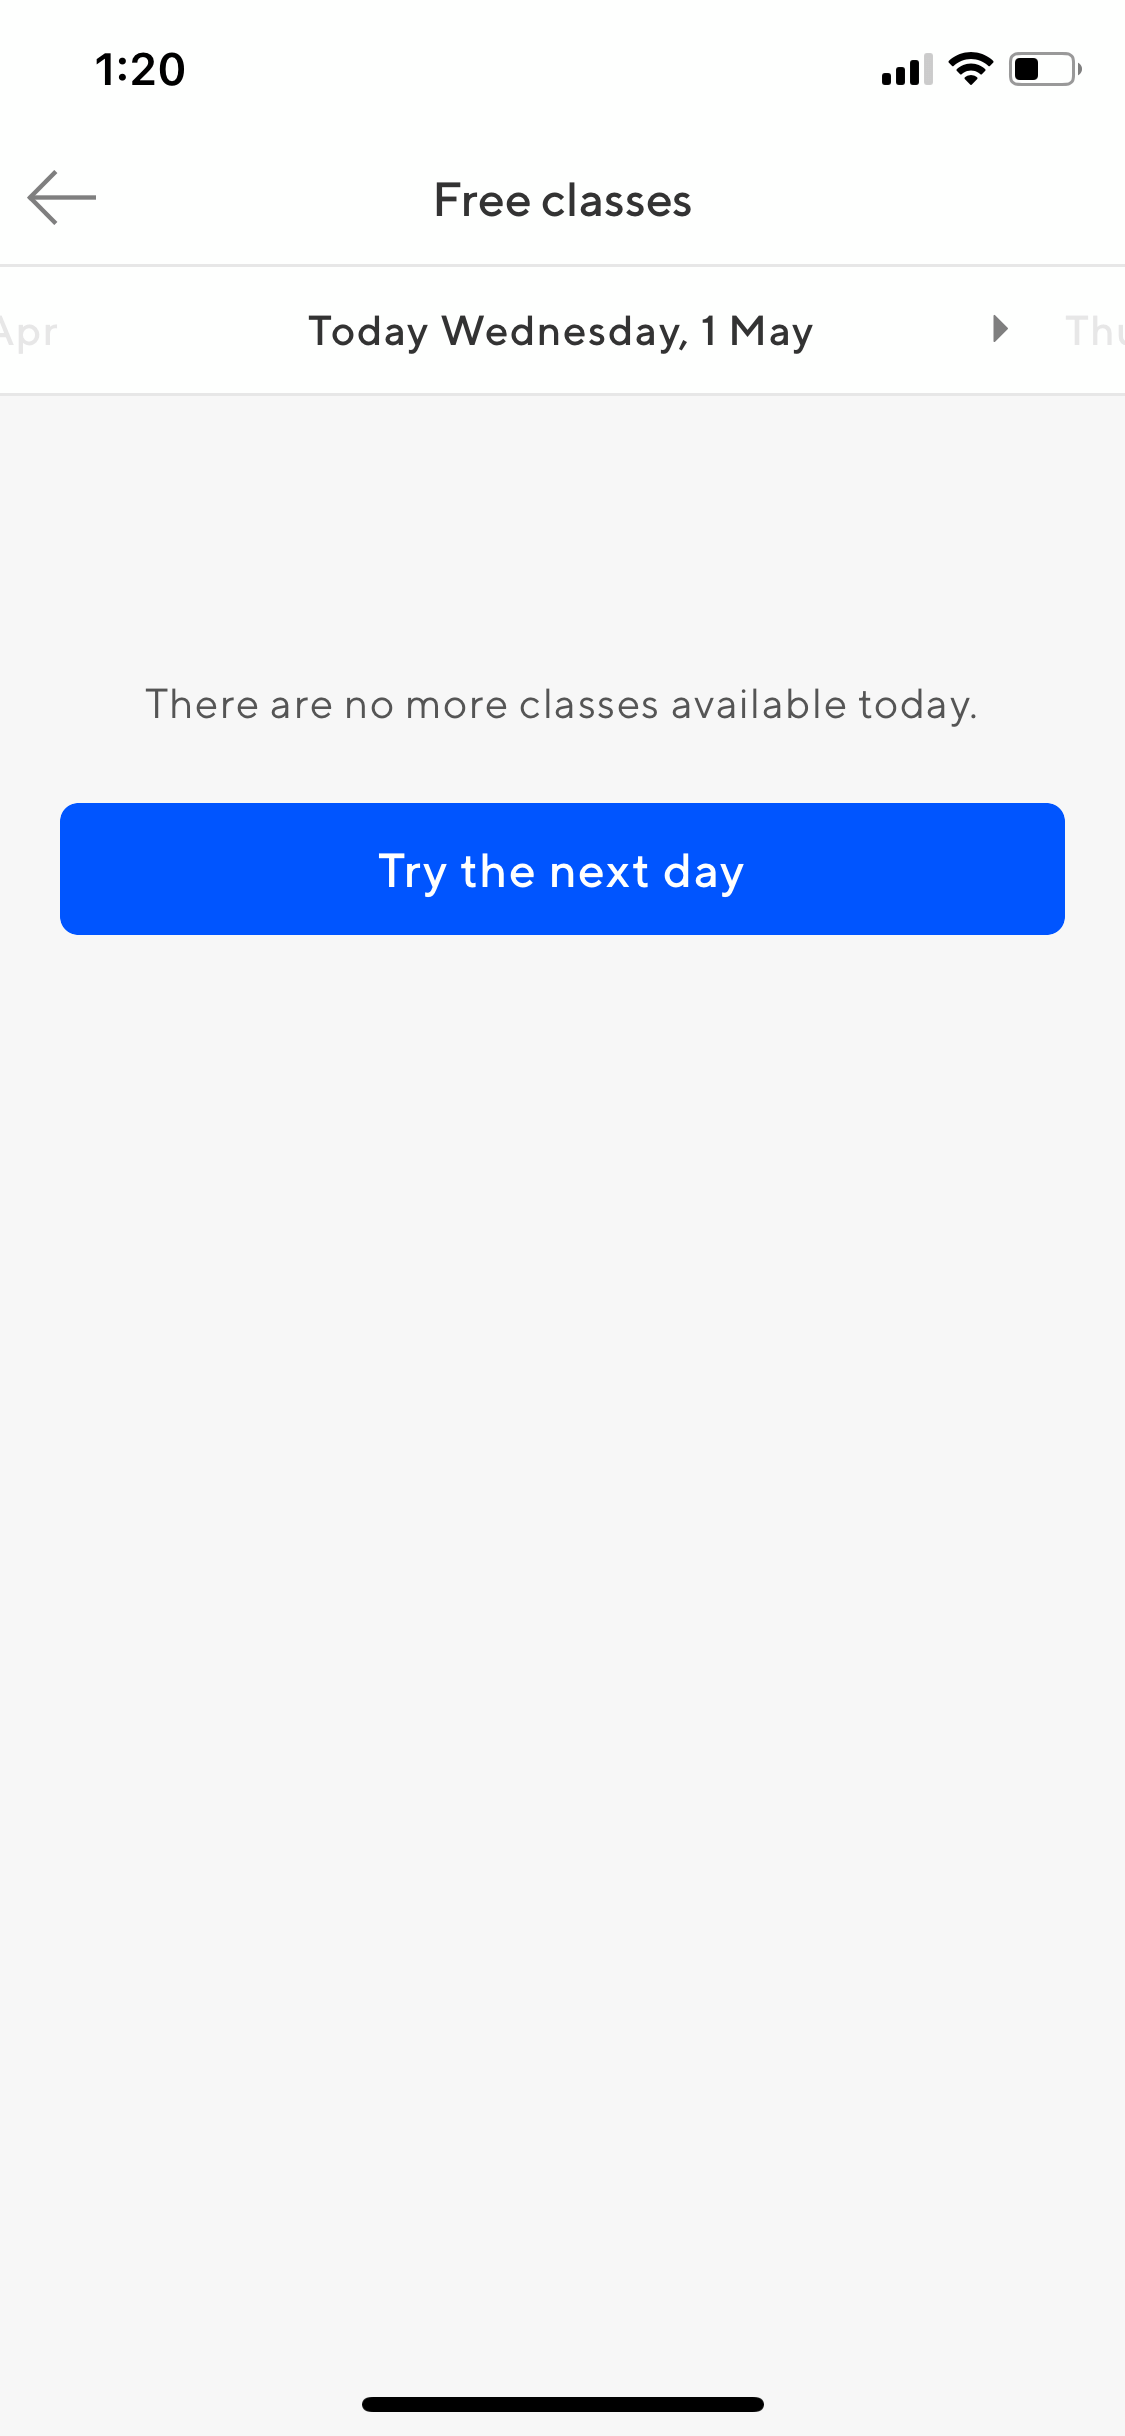Buttons: (44, 781, 1075, 959), (6, 110, 137, 245)
